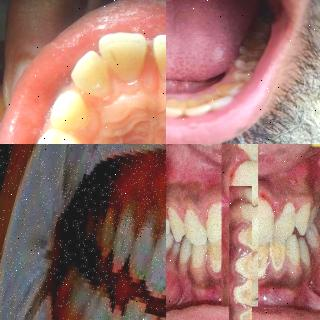Gum Swelling: (260, 189, 303, 219)
calculus: (269, 240, 286, 276), (236, 281, 254, 309), (236, 224, 254, 252), (202, 90, 231, 105), (234, 254, 252, 278), (258, 244, 268, 284), (183, 98, 205, 114), (166, 96, 182, 118), (216, 82, 240, 96), (210, 248, 222, 276), (232, 144, 248, 157), (238, 310, 254, 320)
maligned: (118, 296, 146, 320), (169, 232, 181, 262)
plaque: (182, 207, 205, 241), (203, 200, 221, 242), (258, 200, 276, 234), (276, 204, 296, 232)
